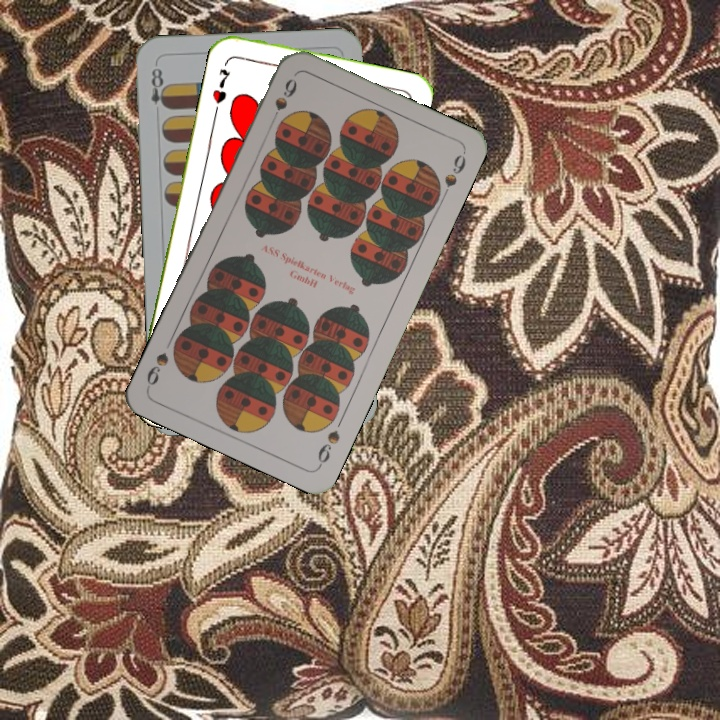E8: (147, 63, 170, 111)
H7: (208, 65, 233, 106)
S9: (266, 74, 300, 128), (313, 426, 343, 470)
